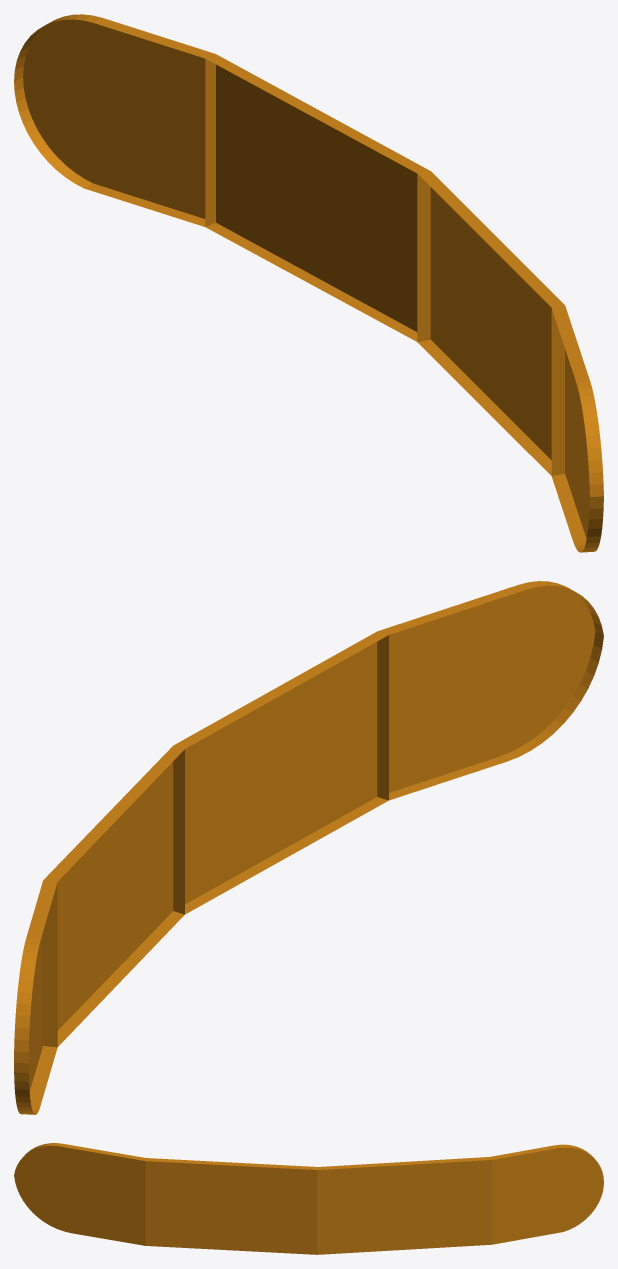
File: original-15.obj
The picture shows the model from 3 angles, top to bottom: view 1: azimuth 30°, elevation 25°; view 2: azimuth 150°, elevation 25°; view 3: azimuth 270°, elevation 25°; orthographic projection. The views are drawn at different scales.
Parts seen in each view (by area): view 1: Group6/mesh8/mesh8-geometry#mesh8-geometry; view 2: Group6/mesh8/mesh8-geometry#mesh8-geometry; view 3: Group6/mesh8/mesh8-geometry#mesh8-geometry.
Part boxes in pixels (left/top/right/bottom): Group6/mesh8/mesh8-geometry#mesh8-geometry: left=14, top=14, right=603, bottom=552; Group6/mesh8/mesh8-geometry#mesh8-geometry: left=14, top=581, right=603, bottom=1114; Group6/mesh8/mesh8-geometry#mesh8-geometry: left=14, top=1143, right=603, bottom=1254.
Size of the model in its own units: 0.0867 by 0.1 by 0.6304.
